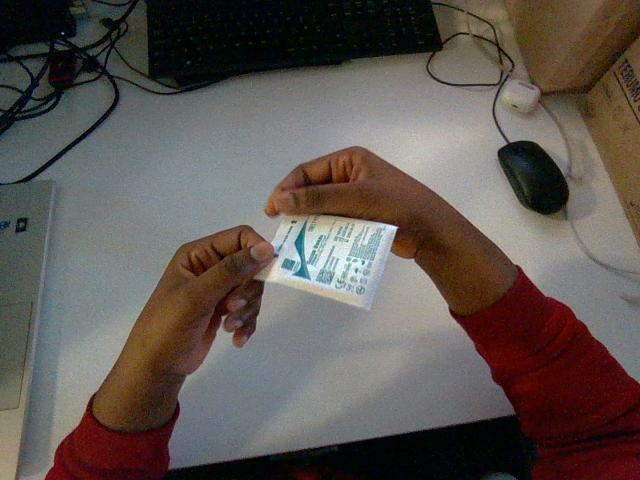gauze: (256, 215, 396, 309)
